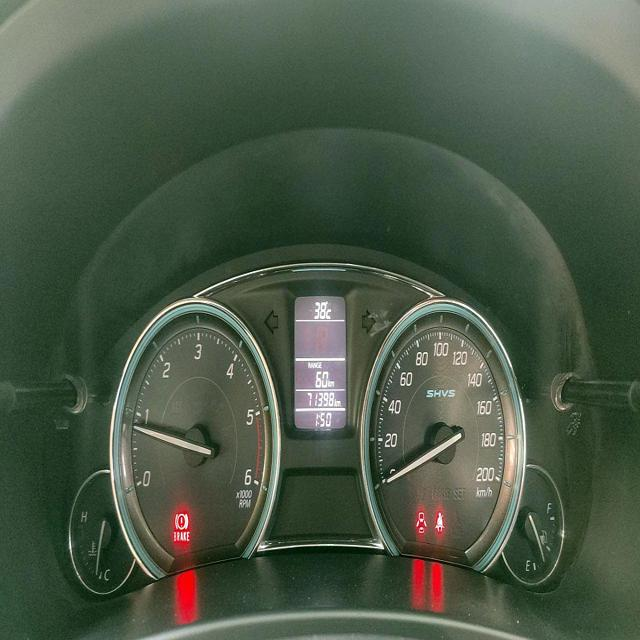odometer: (303, 389, 334, 408)
